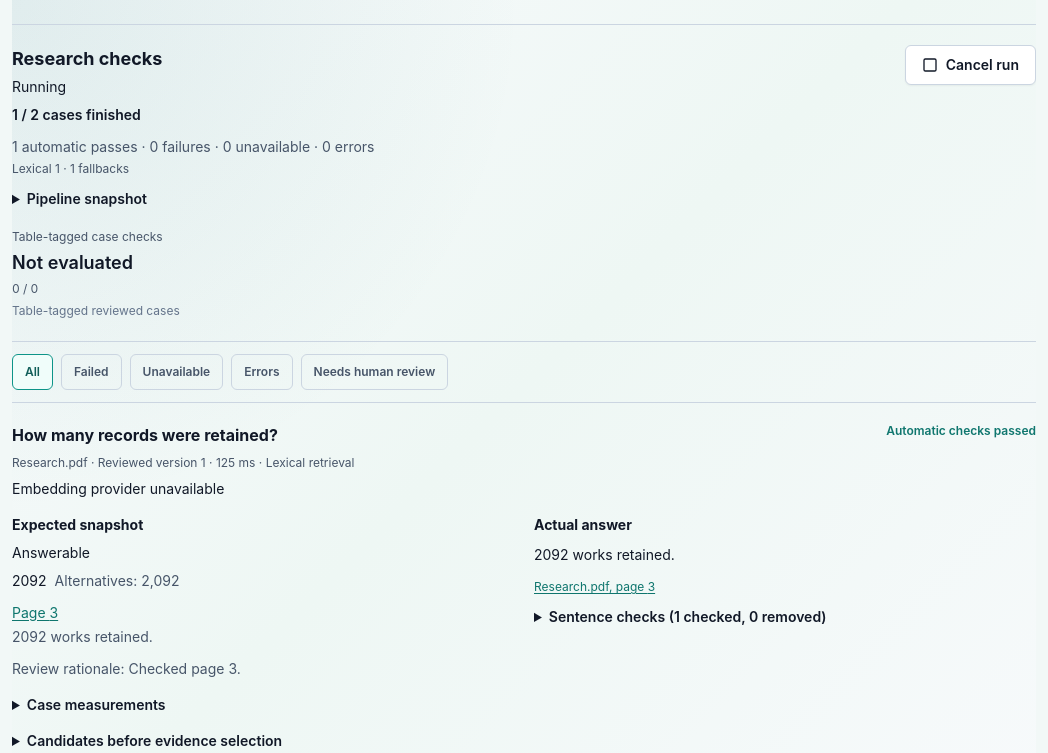
Scenario: BenchmarkRunResults › allows cancelling again when cancellation fails after a same-run polling retry
The image size is (1048, 753).
Click the button "Cancel run": (970, 65) [905,45,1036,85]
Wait 2000 ms
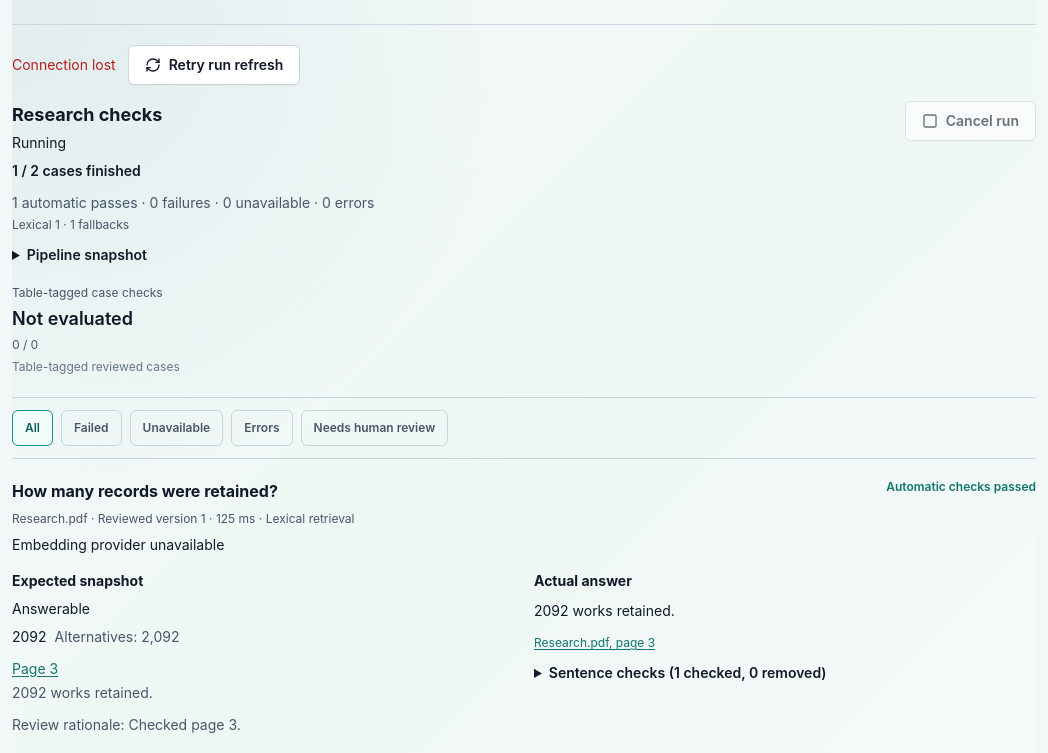
Click the button "Retry run refresh": (214, 65) [128,45,300,85]
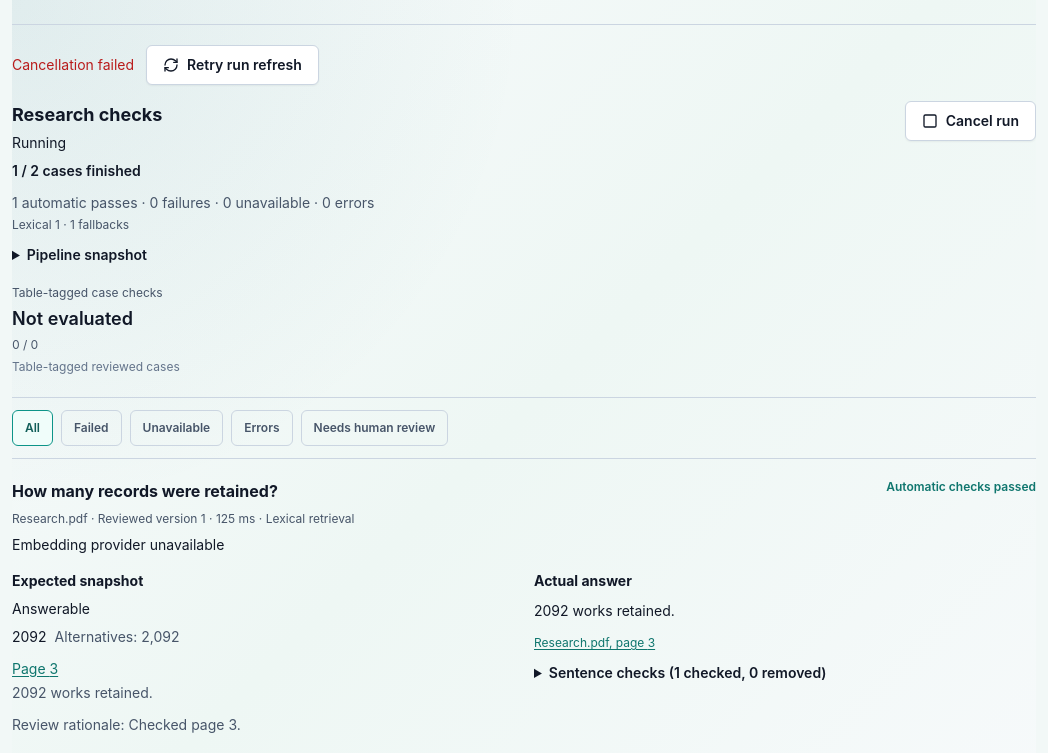
Result: the message "Cancellation failed" is shown at [12,55,134,75]
Result: the button "Cancel run" is enabled at [905,101,1036,141]
